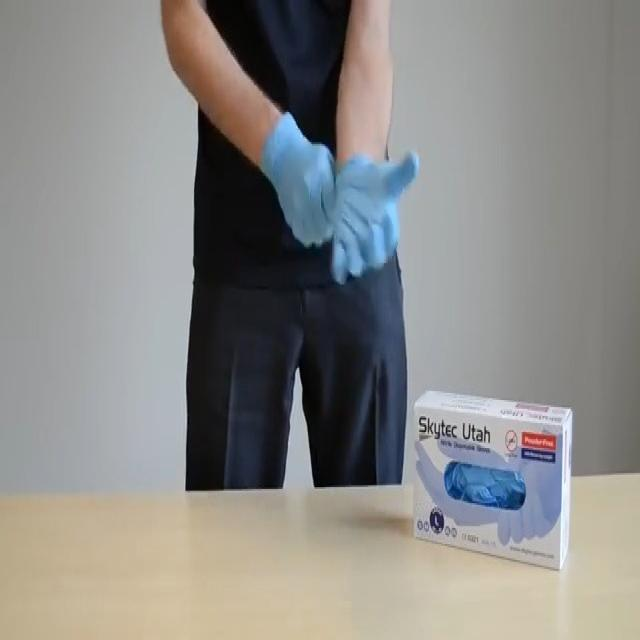Gloves: (327, 139, 430, 302), (261, 112, 339, 259)
